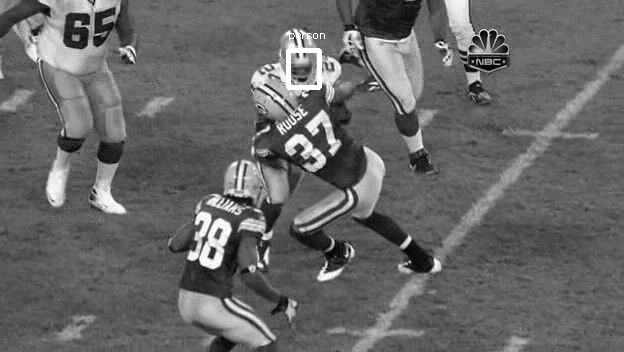person: (280, 35, 318, 84), (279, 35, 317, 84), (281, 35, 319, 84), (280, 34, 318, 83), (280, 36, 318, 85)
target_negative: (229, 126, 501, 254), (278, 150, 419, 266), (436, 5, 459, 225), (371, 298, 591, 309), (611, 64, 615, 263), (584, 109, 608, 117)
